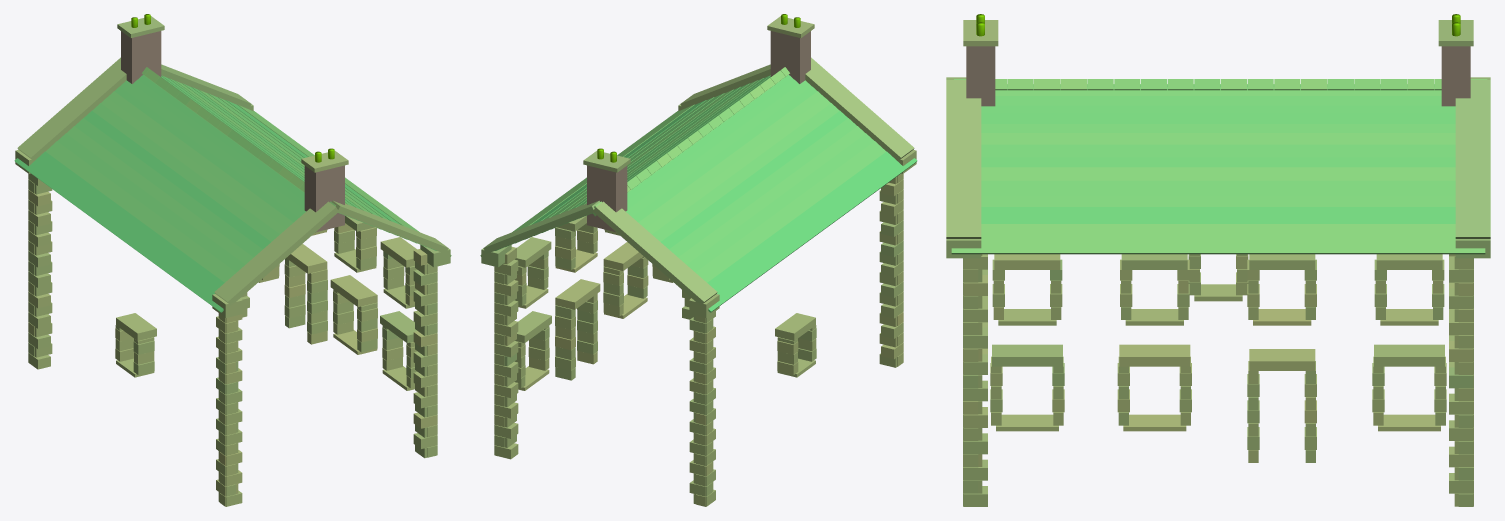
Rendered from SM_Bld_119_Stone.glb.
The picture shows the model from 3 angles, left to right: view 1: azimuth 30°, elevation 25°; view 2: azimuth 150°, elevation 25°; view 3: azimuth 270°, elevation 25°; orthographic projection. The views are drawn at different scales.
Parts seen in each view (by area): view 1: SM_Bld_119_Stone; view 2: SM_Bld_119_Stone; view 3: SM_Bld_119_Stone.
Boxes of the visible parts, x1=… form: SM_Bld_119_Stone: x1=14, y1=14, x2=451, y2=506; SM_Bld_119_Stone: x1=480, y1=14, x2=917, y2=506; SM_Bld_119_Stone: x1=946, y1=14, x2=1490, y2=506.
Bounding box in the file's own units: 7.11 × 9.55 × 11.22.
